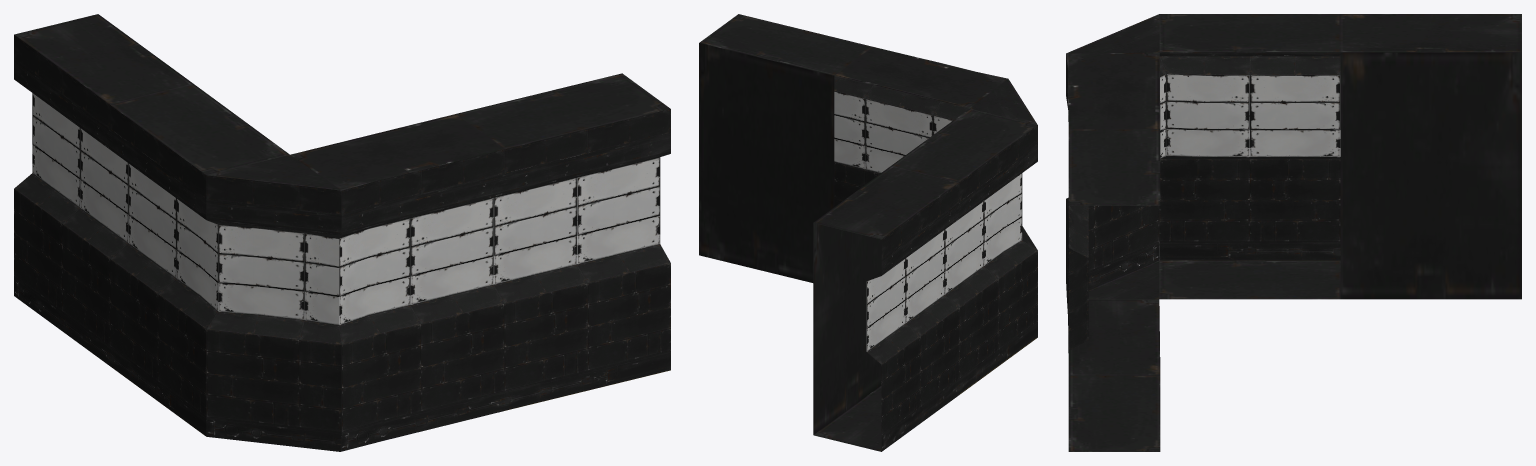
Rendered from ModularPH_Corner_5x5.dae.
The picture shows the model from 3 angles, left to right: view 1: azimuth 30°, elevation 25°; view 2: azimuth 150°, elevation 25°; view 3: azimuth 270°, elevation 25°; orthographic projection. The views are drawn at different scales.
Visible parts, largest first — view 1: modularPH_Corner; view 2: modularPH_Corner; view 3: modularPH_Corner.
Part boxes in pixels (<box>): modularPH_Corner: <box>14,14,670,451</box>; modularPH_Corner: <box>699,14,1037,451</box>; modularPH_Corner: <box>1066,14,1521,451</box>.
Size of the model in its own units: 5 by 3 by 5.03.
1 material, 1 textured.
